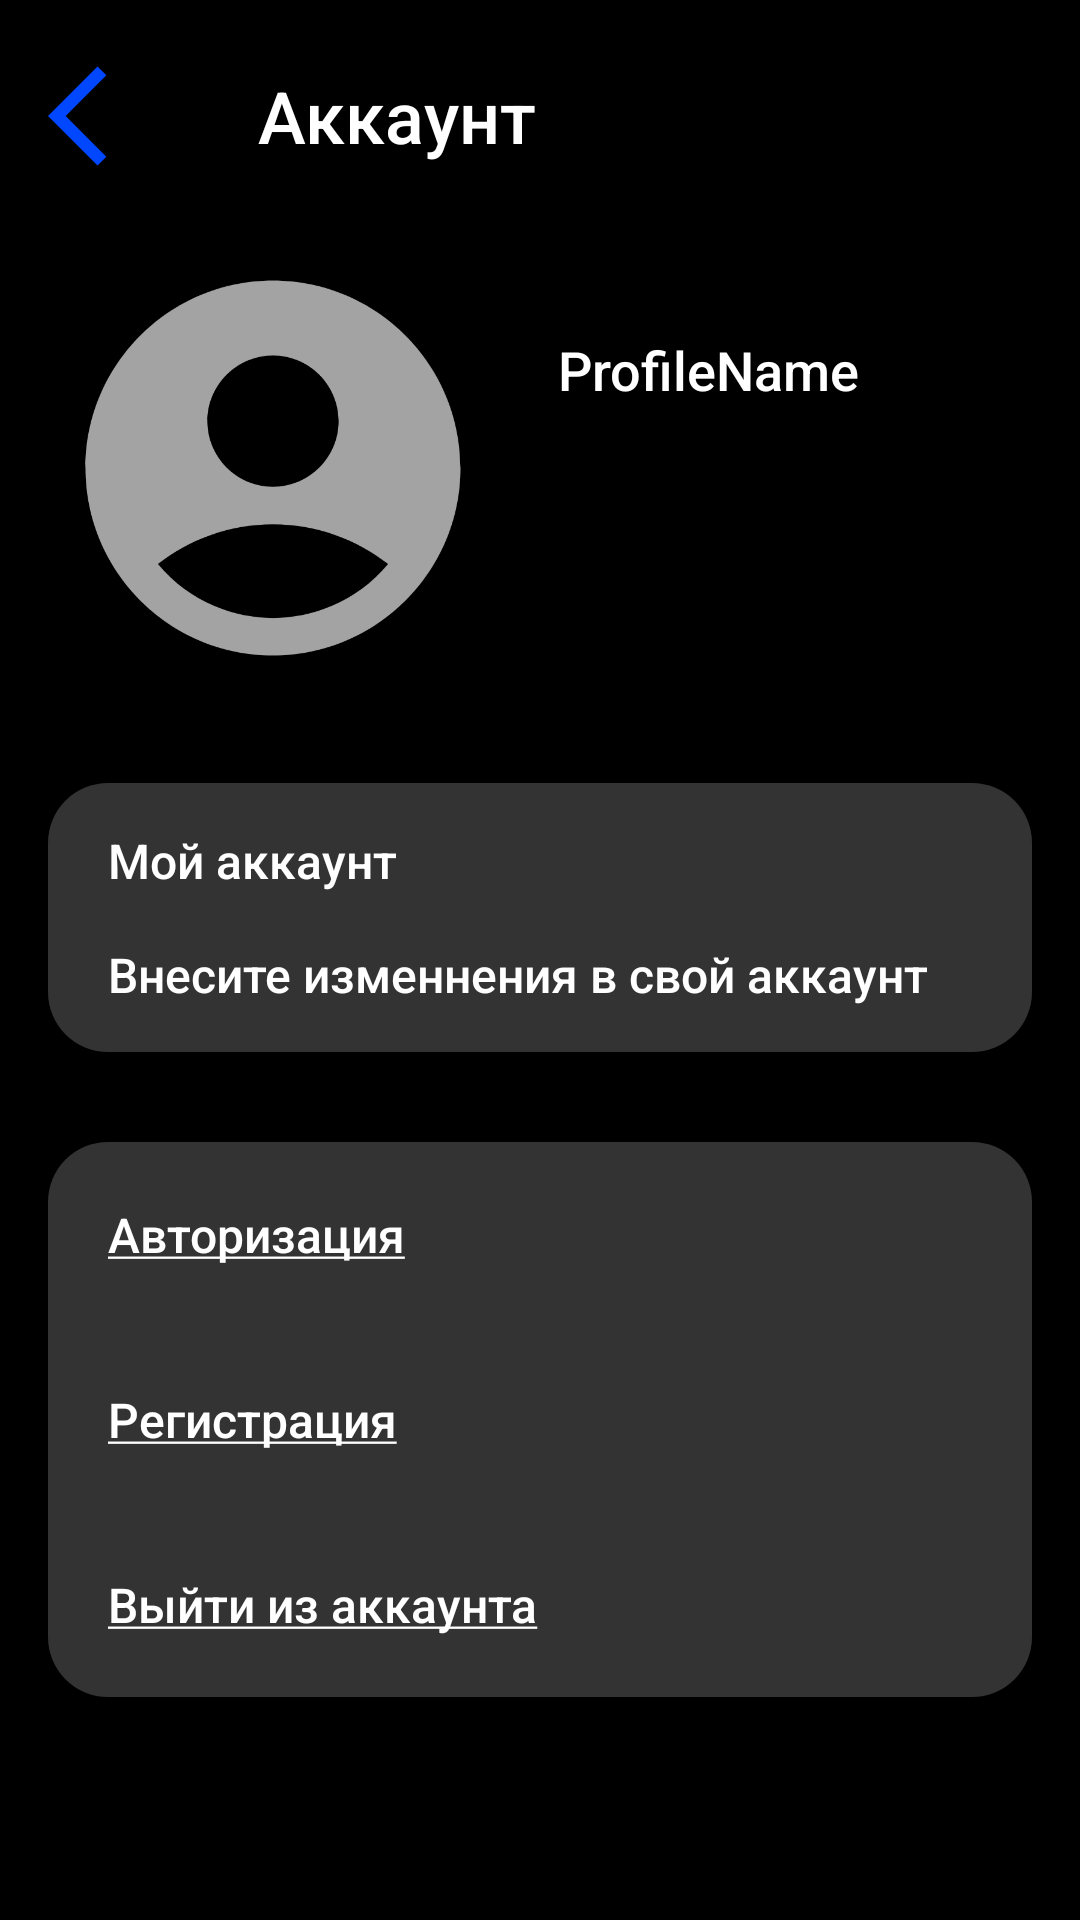

Where icons sit on this 1080w x 1920h app screen, as {"x1": x1, "y1": y1, "x2": x2, "y2": y2}:
arrow back: {"x1": 48, "y1": 66, "x2": 107, "y2": 166}
